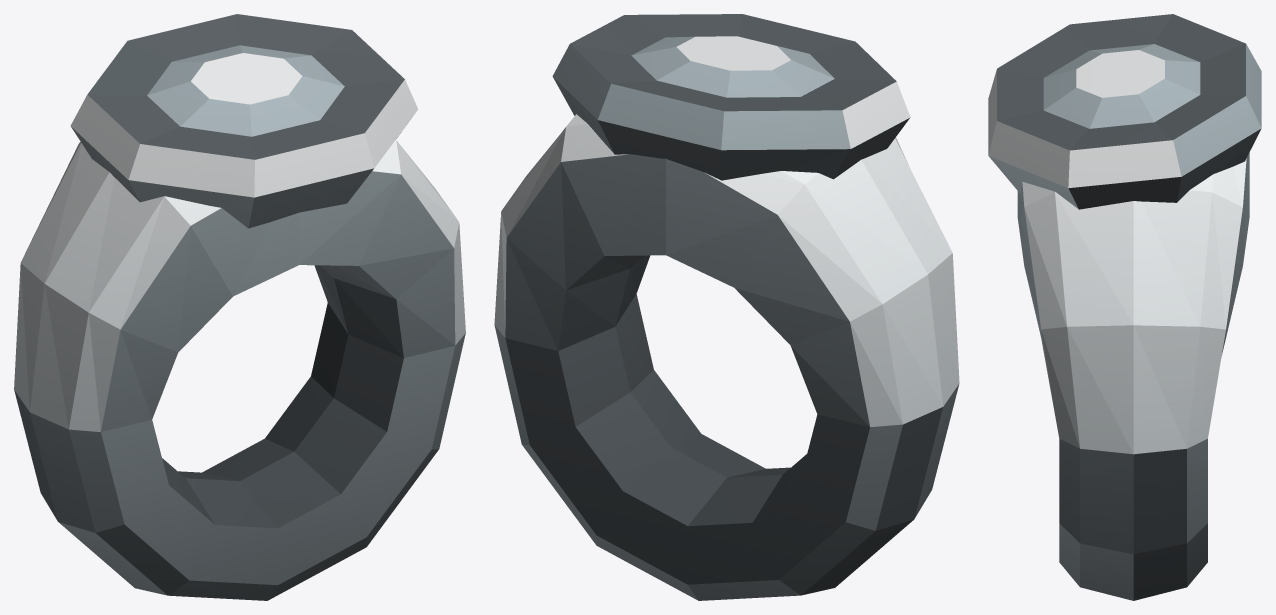
The model's file is source.glb.
3 views of the same model, side by side, from view 1: azimuth 30°, elevation 25°; view 2: azimuth 150°, elevation 25°; view 3: azimuth 270°, elevation 25° (orthographic). The views are drawn at different scales.
Parts seen in each view (by area): view 1: model; view 2: model; view 3: model.
Boxes of the visible parts, x1,y1,x2,y2 form: model: (14,14,465,600); model: (494,14,959,600); model: (988,14,1261,600).
Size of the model in its own units: 0.52 by 0.62 by 0.3.
1 material, 1 textured.
